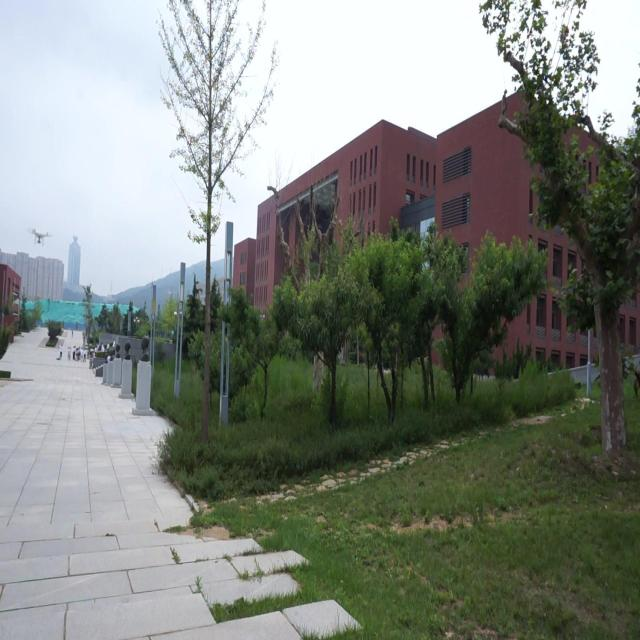drone: (27, 223, 51, 249)
